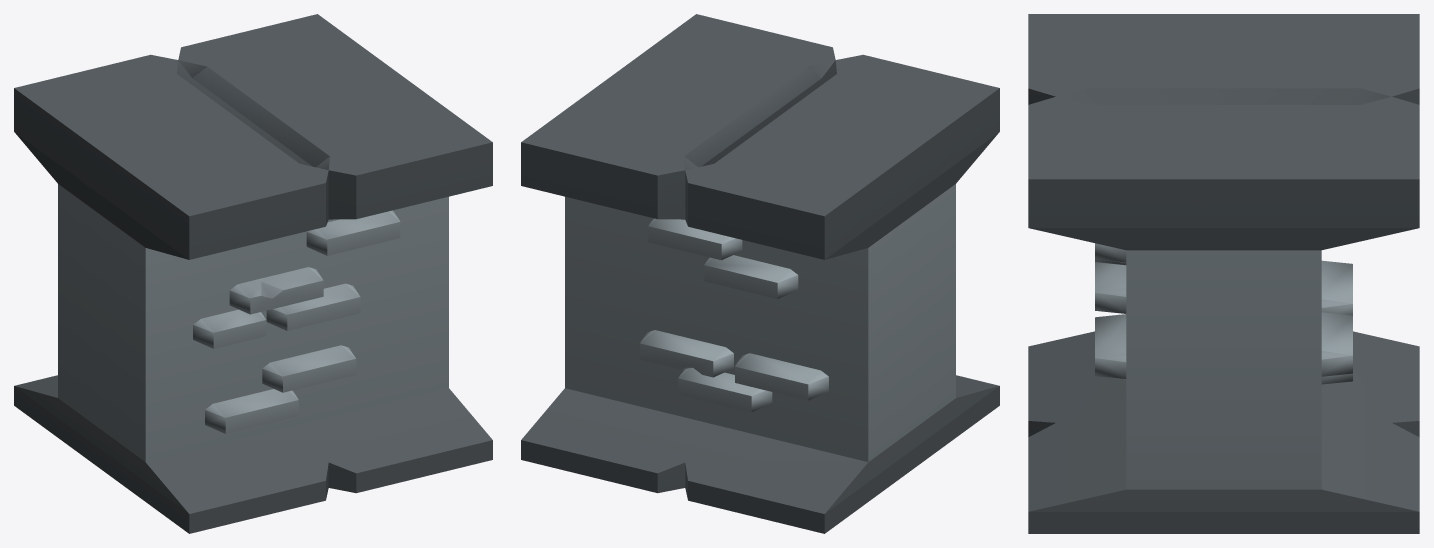
The model's file is wall_half.glb.
The picture shows the model from 3 angles, left to right: view 1: azimuth 30°, elevation 25°; view 2: azimuth 150°, elevation 25°; view 3: azimuth 270°, elevation 25°; orthographic projection. The views are drawn at different scales.
Visible parts, largest first — view 1: wall_half; view 2: wall_half; view 3: wall_half.
Part boxes in pixels (x1=…): wall_half: x1=14, y1=14, x2=492, y2=533; wall_half: x1=521, y1=14, x2=999, y2=533; wall_half: x1=1028, y1=14, x2=1419, y2=533.
Bounding box in the file's own units: 1 × 1 × 1.
1 material, 1 textured.
